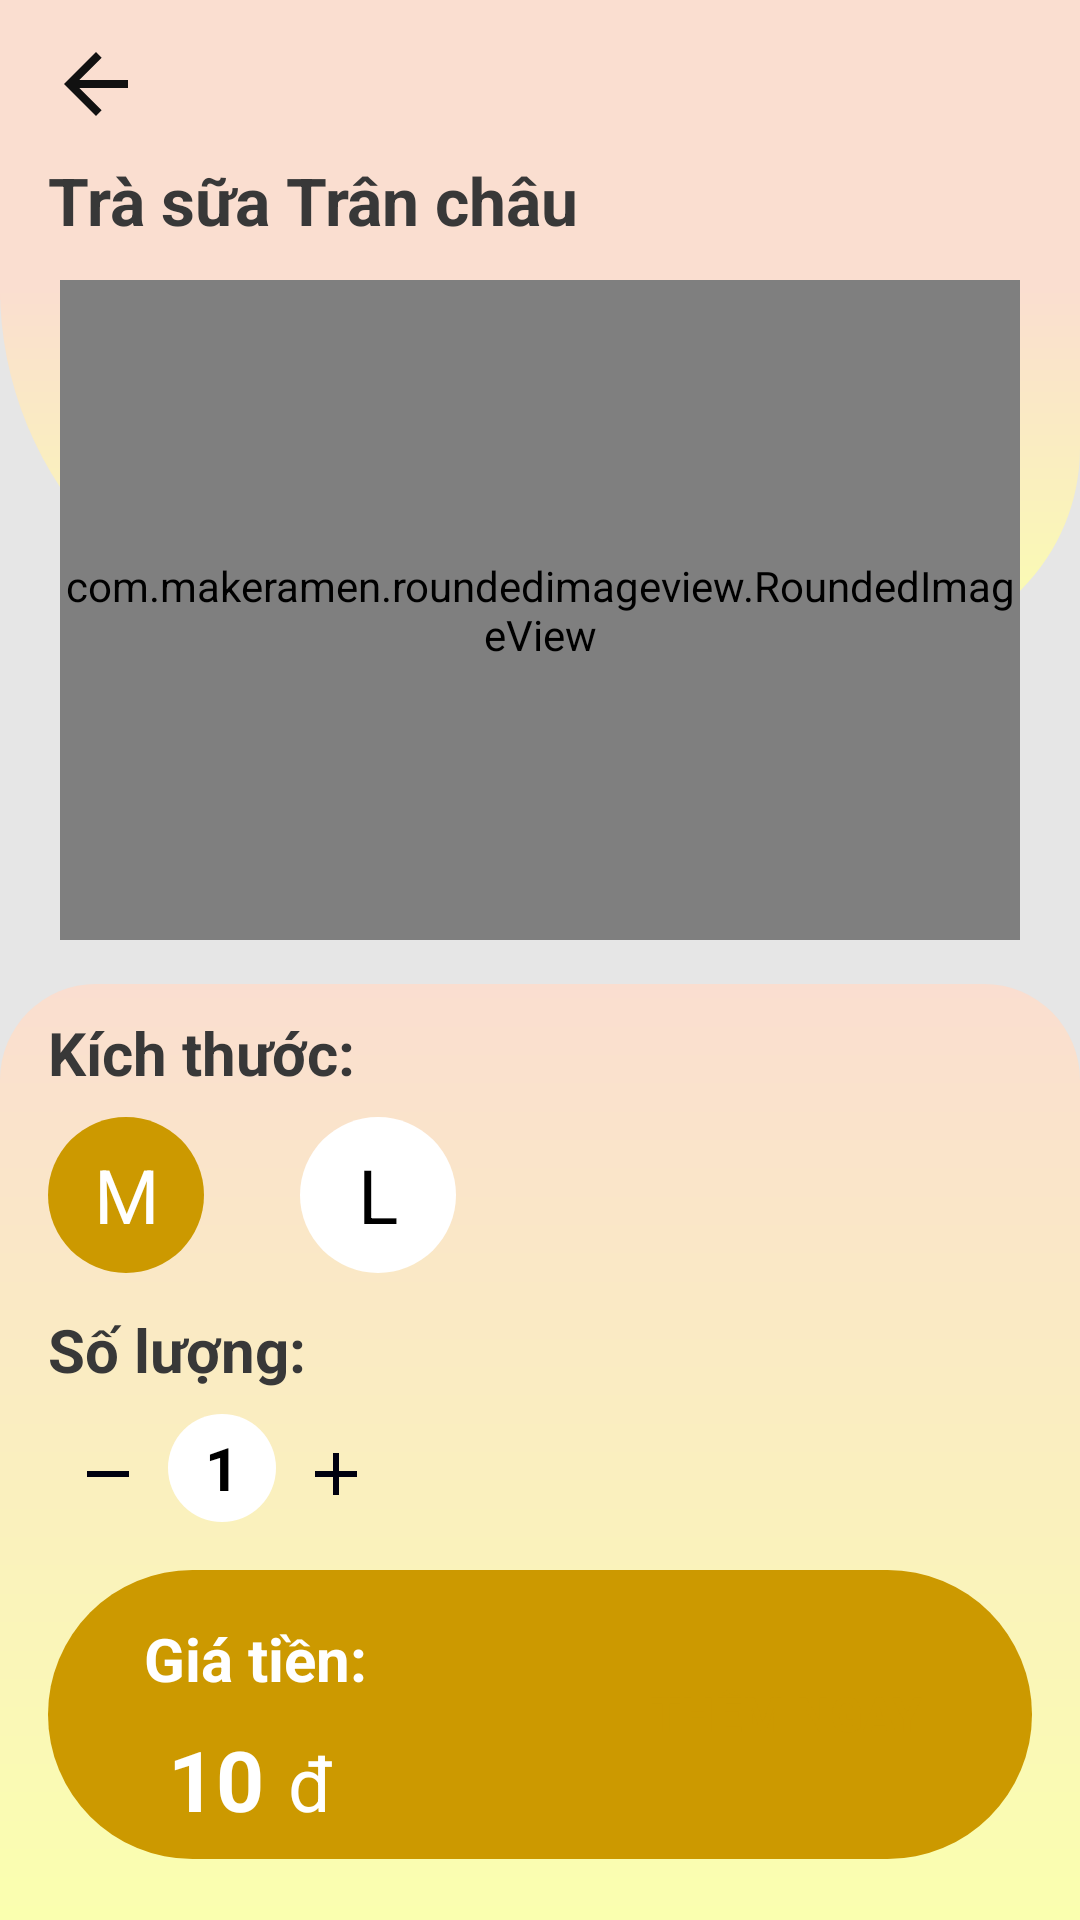

Screen size 1080 x 1920. Icon name, then its box in pixels as (x1, y1, x2, y2):
add: (315, 1453, 357, 1495)
arrow back: (64, 52, 128, 116)
